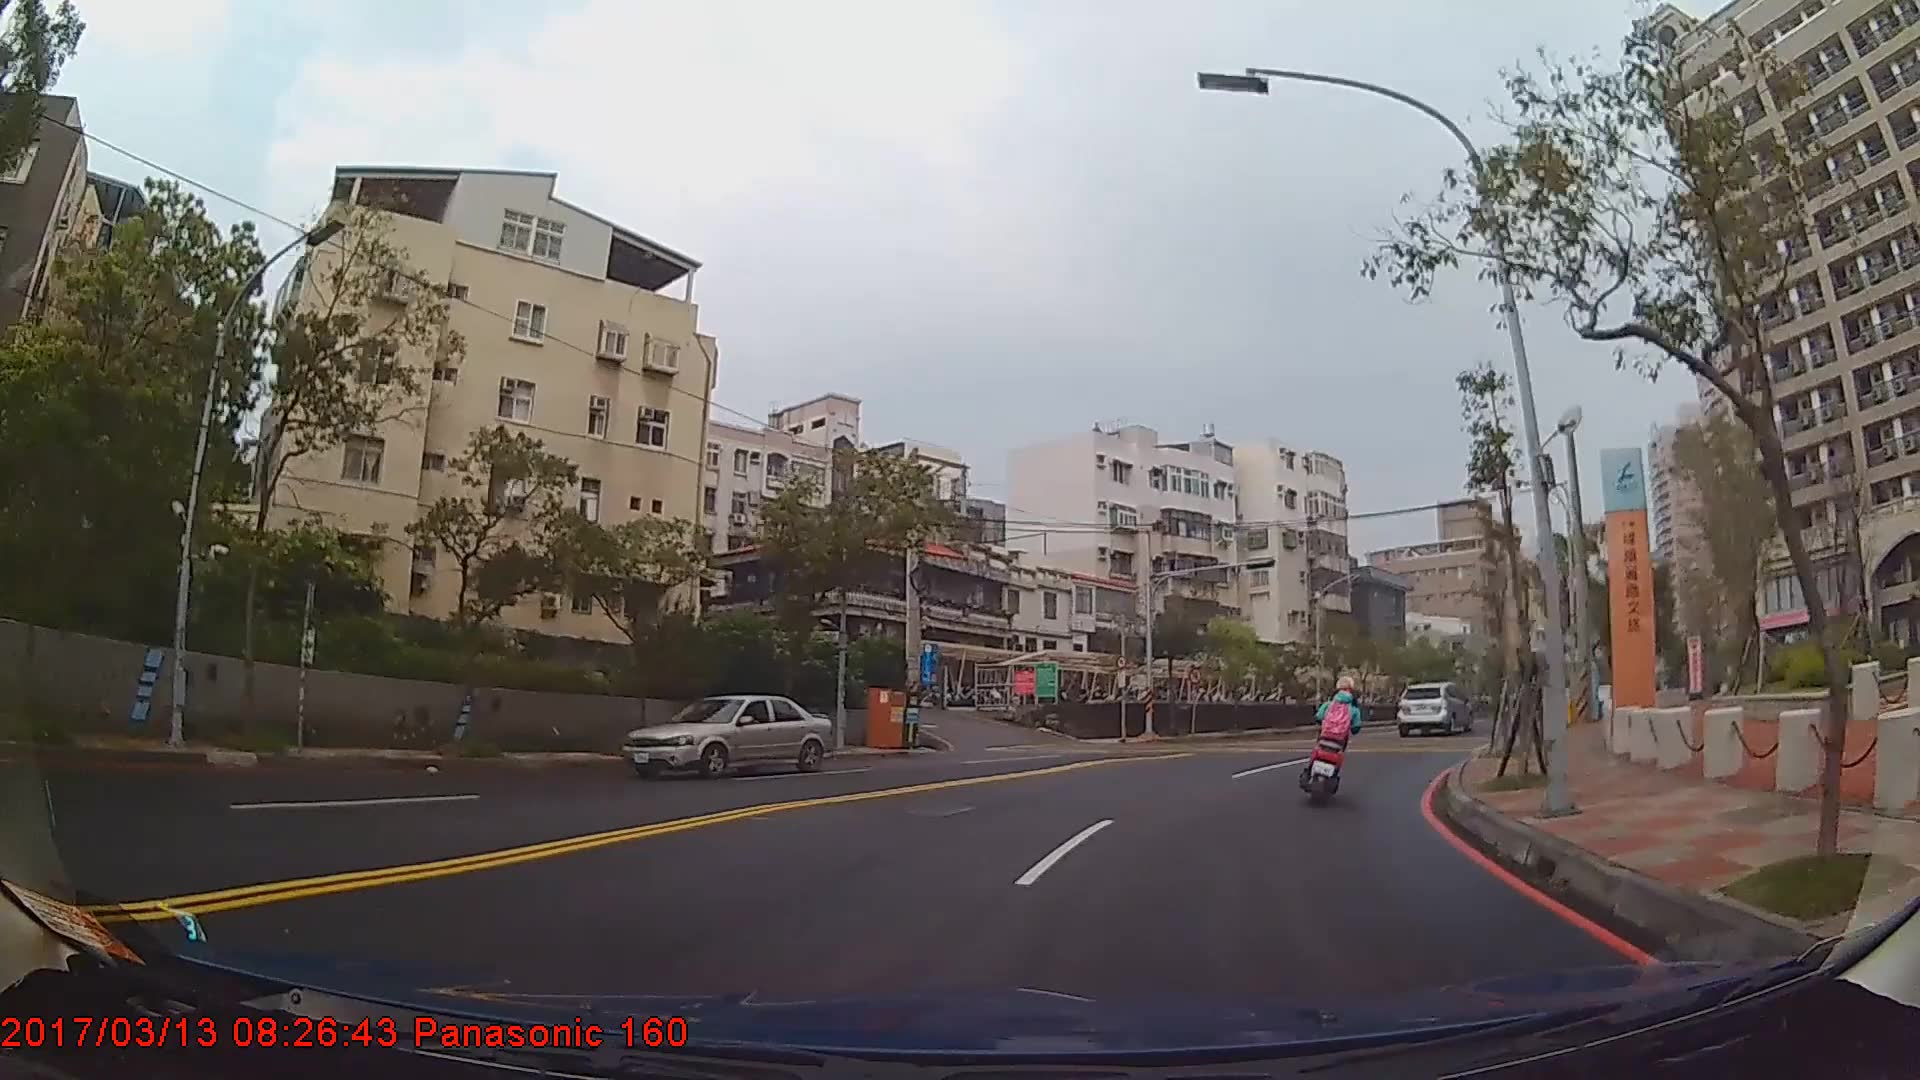rider: (1307, 675, 1367, 799)
vehicle: (620, 694, 833, 781), (1395, 680, 1468, 736)
